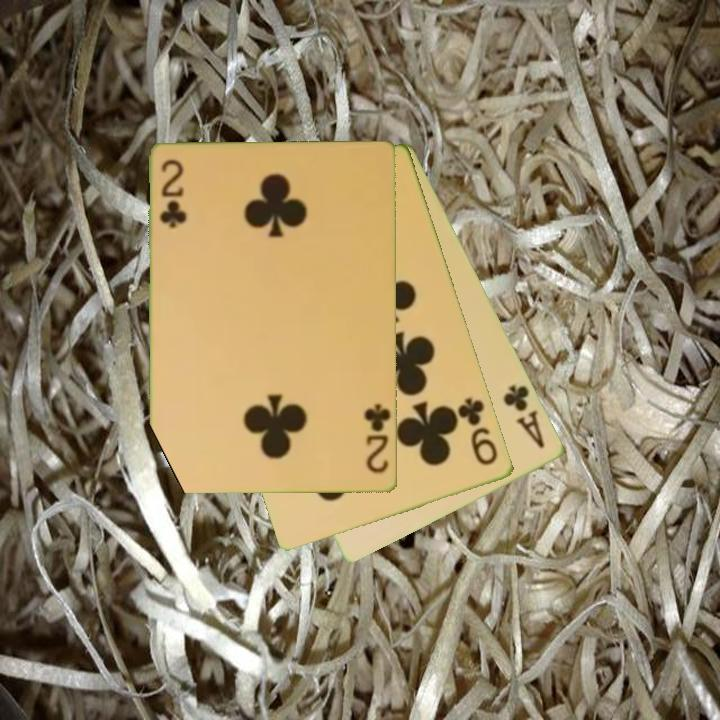2c: (361, 400, 394, 476), (157, 156, 187, 232)
9c: (454, 394, 501, 469)
Ac: (500, 381, 548, 452)
